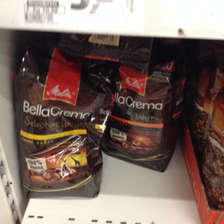coffee: (13, 42, 104, 198), (109, 62, 180, 174)
